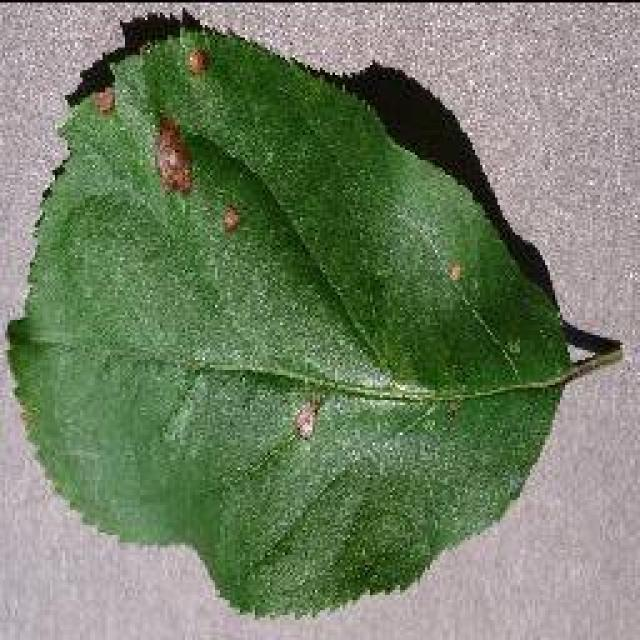Black_rot: (2, 8, 622, 620)
